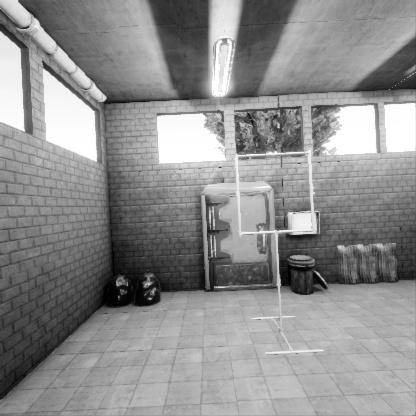gate: (234, 183, 320, 268)
